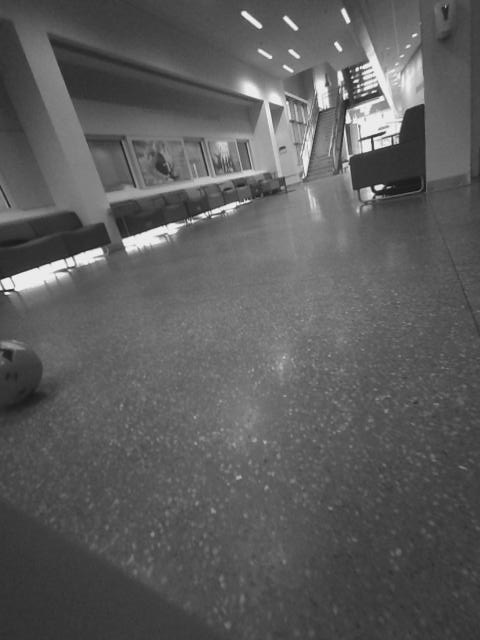ball: (4, 332, 47, 416)
